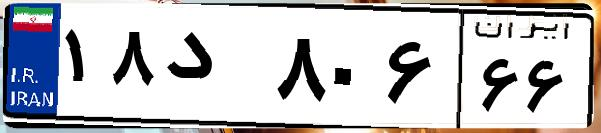0: (330, 28, 385, 110)
1: (57, 26, 110, 100)
6: (385, 28, 445, 110), (475, 38, 525, 113), (525, 38, 570, 115)
8: (270, 28, 330, 110), (110, 28, 158, 98)
د: (158, 20, 270, 120)
